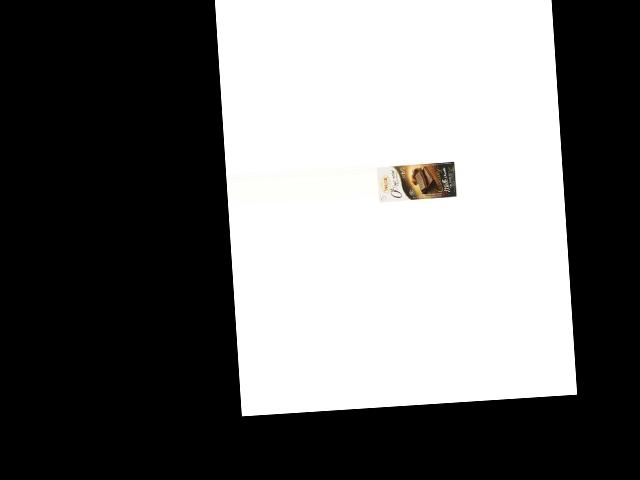chocolate: (376, 160, 457, 204)
